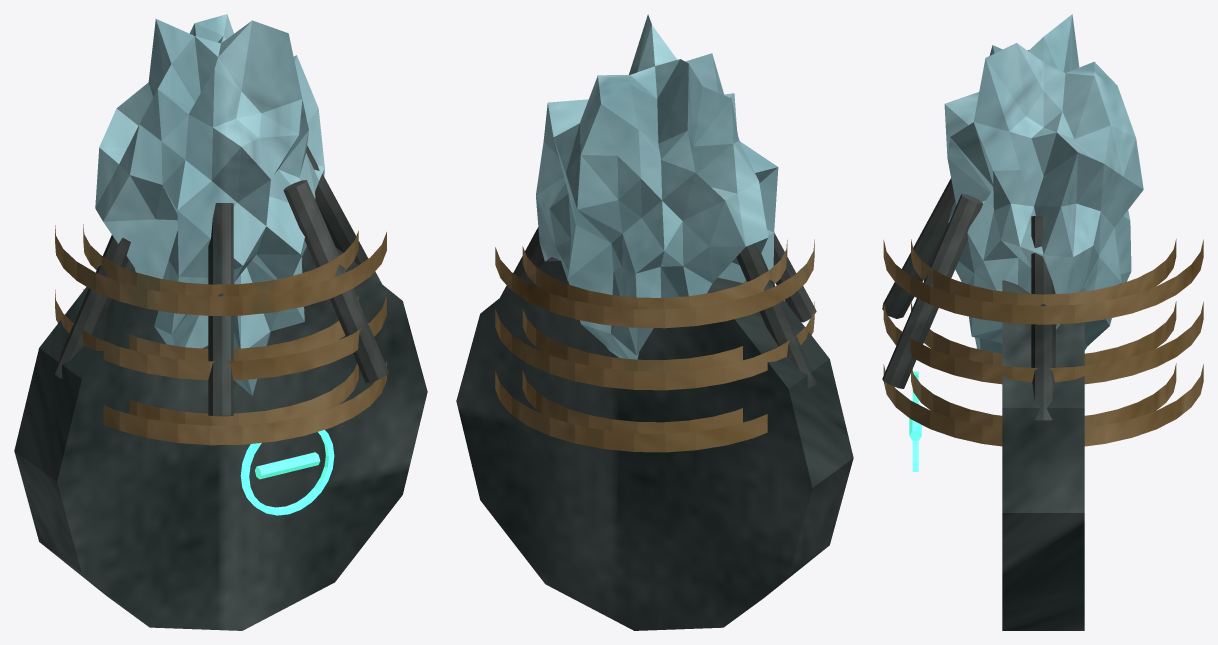
Rendered from 0995_offering_relic_20.glb.
3 views of the same model, side by side, from view 1: azimuth 30°, elevation 25°; view 2: azimuth 150°, elevation 25°; view 3: azimuth 270°, elevation 25° (orthographic). The views are drawn at different scales.
Visible parts, largest first — view 1: stone_dark, ice, brass, iron, glow; view 2: stone_dark, ice, brass, iron; view 3: ice, brass, stone_dark, iron, glow.
Part boxes in pixels (<box>): stone_dark: <box>14,246,427,630</box>; ice: <box>95,14,324,395</box>; brass: <box>55,224,386,445</box>; iron: <box>53,145,388,416</box>; glow: <box>240,430,334,515</box>; stone_dark: <box>456,257,853,630</box>; ice: <box>536,14,778,359</box>; brass: <box>495,239,814,452</box>; iron: <box>500,227,816,388</box>; ice: <box>944,14,1143,353</box>; brass: <box>883,239,1203,446</box>; stone_dark: <box>1002,280,1084,630</box>; iron: <box>882,178,1055,420</box>; glow: <box>909,371,921,471</box>.
Size of the model in its own units: 0.9 by 1.39 by 0.7028.
Materials: 5 (5 with a texture image).
